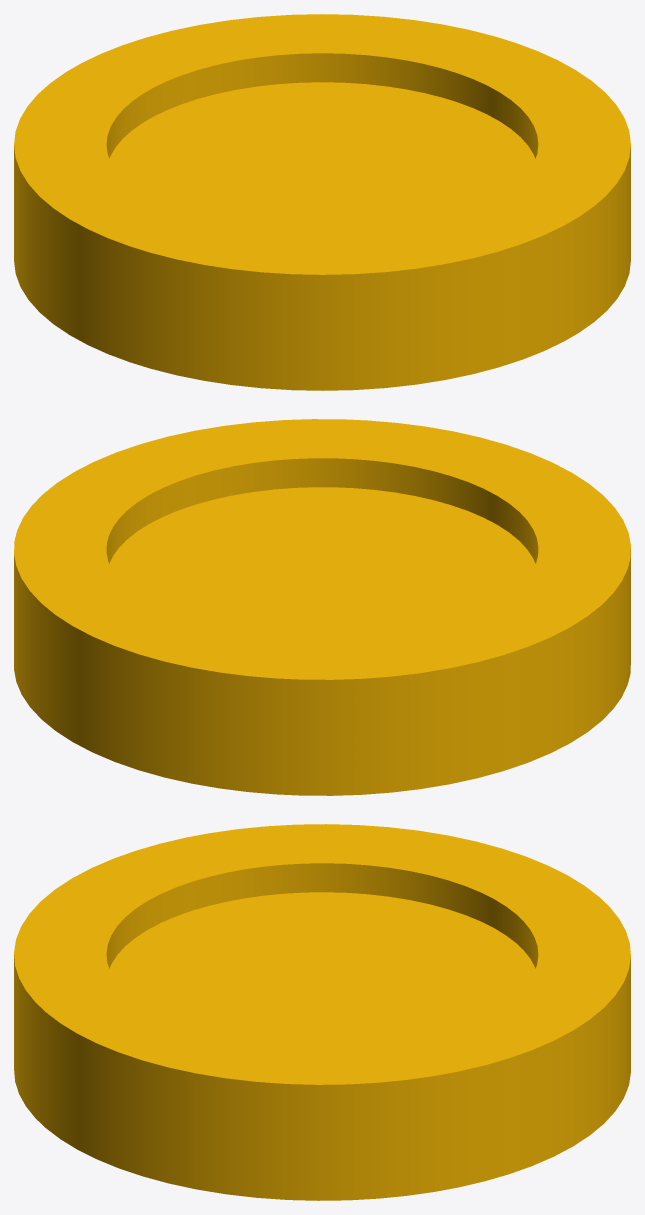
Rendered from _gold_coin.fbx.
The picture shows the model from 3 angles, top to bottom: view 1: azimuth 30°, elevation 25°; view 2: azimuth 150°, elevation 25°; view 3: azimuth 270°, elevation 25°; orthographic projection.
Visible parts, largest first — view 1: 개체_1; view 2: 개체_1; view 3: 개체_1.
Boxes of the visible parts, x1,y1,x2,y2 form: 개체_1: [14, 14, 630, 390]; 개체_1: [14, 419, 630, 795]; 개체_1: [14, 824, 630, 1200].
Bounding box in the file's own units: 4.82 × 4.82 × 1.
